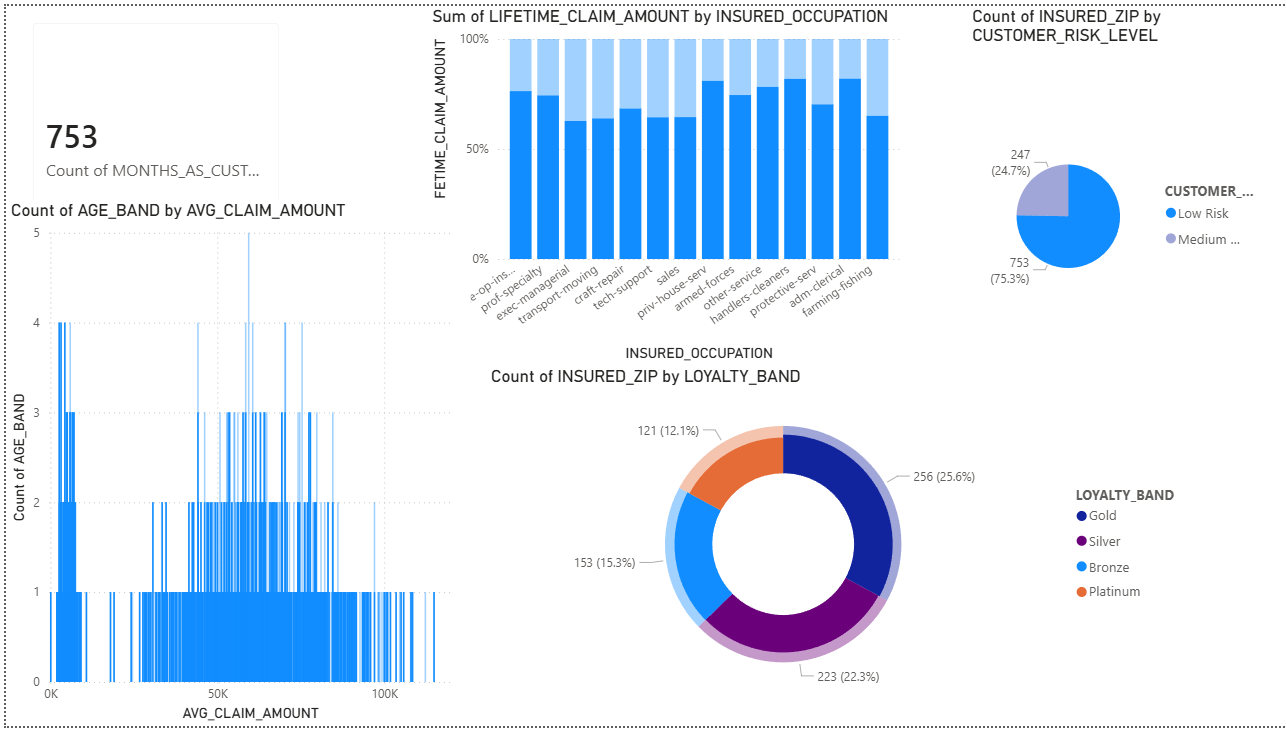

This screenshot's page, from the dashboard's own definition file:
{"tool":"powerbi","page":{"name":"Customer 360","canvas":[1280,720],"ordinal":2},"visuals":[{"type":"cardVisual","fields":{"Data":["CountNonNull(CUSTOMER_360.MONTHS_AS_CUSTOMER)"]},"box":[10,0,280,280],"z":0},{"type":"donutChart","fields":{"Category":["CUSTOMER_360.LOYALTY_BAND"],"Y":["CountNonNull(CUSTOMER_360.INSURED_ZIP)"]},"box":[10,290,280,280],"z":1},{"type":"pieChart","fields":{"Category":["CUSTOMER_360.CUSTOMER_RISK_LEVEL"],"Y":["CountNonNull(CUSTOMER_360.INSURED_ZIP)"]},"box":[10,570,280,150],"z":2},{"type":"hundredPercentStackedColumnChart","fields":{"Category":["CUSTOMER_360.INSURED_OCCUPATION"],"Y":["Sum(CUSTOMER_360.LIFETIME_CLAIM_AMOUNT)"]},"box":[300,0,280,280],"z":3},{"type":"lineClusteredColumnComboChart","fields":{"Y":["CountNonNull(CUSTOMER_360.AGE_BAND)"],"Category":["CUSTOMER_360.AVG_CLAIM_AMOUNT"]},"box":[300,290,464.4,280],"z":4}]}

Visuals, with their boxes in screenshot pixels (x1, y1, x2, y2), scaled from the page's 1280x720 canvas onto the 1286x730 screenshot:
cardVisual - CountNonNull(CUSTOMER_360.MONTHS_AS_CUSTOMER): [10,0,291,284]
donutChart - CUSTOMER_360.LOYALTY_BAND x CountNonNull(CUSTOMER_360.INSURED_ZIP): [10,294,291,578]
pieChart - CUSTOMER_360.CUSTOMER_RISK_LEVEL x CountNonNull(CUSTOMER_360.INSURED_ZIP): [10,578,291,729]
hundredPercentStackedColumnChart - CUSTOMER_360.INSURED_OCCUPATION x Sum(CUSTOMER_360.LIFETIME_CLAIM_AMOUNT): [301,0,583,284]
lineClusteredColumnComboChart - CountNonNull(CUSTOMER_360.AGE_BAND) x CUSTOMER_360.AVG_CLAIM_AMOUNT: [301,294,768,578]
